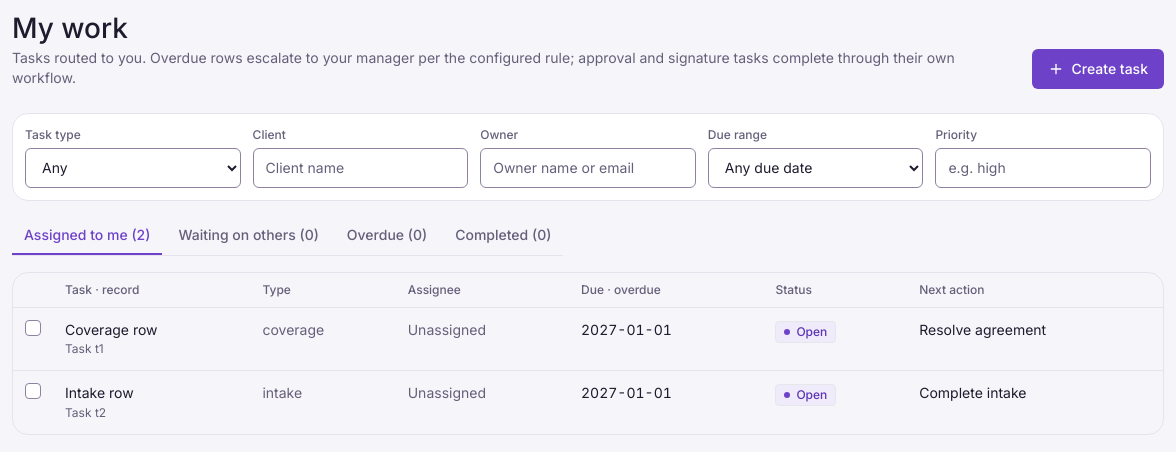
Test: MyWorkPage › filters by task type without dropping other tab counts
Check: the text "Coverage row" is shown, box [65,321,158,338]
Check: the text "Intake row" is shown, box [65,384,134,401]
Note: Narrow to intake — only the intake row survives.
Select "intake" in the dropdown labelled "Task type" at x=133, y=168, box [25,148,241,188]
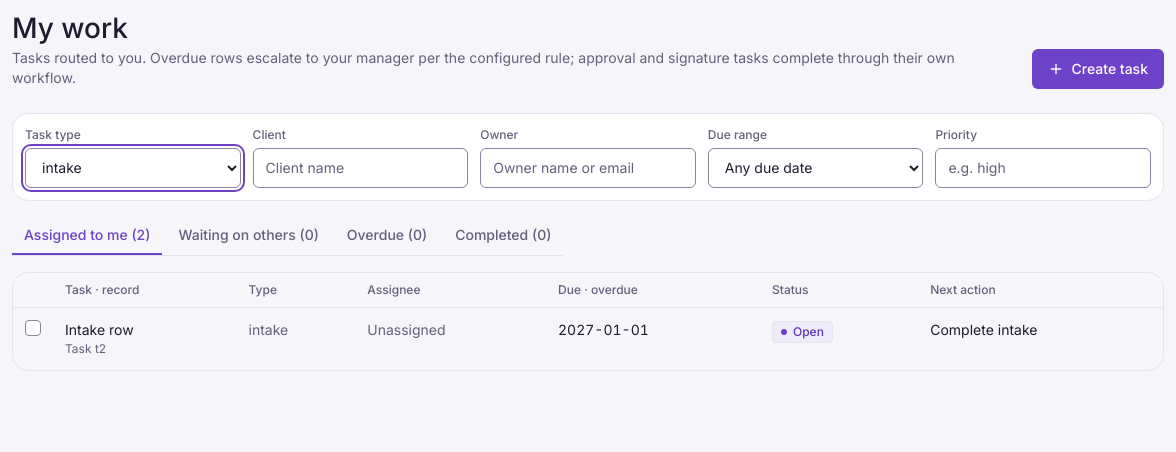
Check: the text "Intake row" is shown, box [65,321,134,338]
Check: the text "Coverage row" is gone
